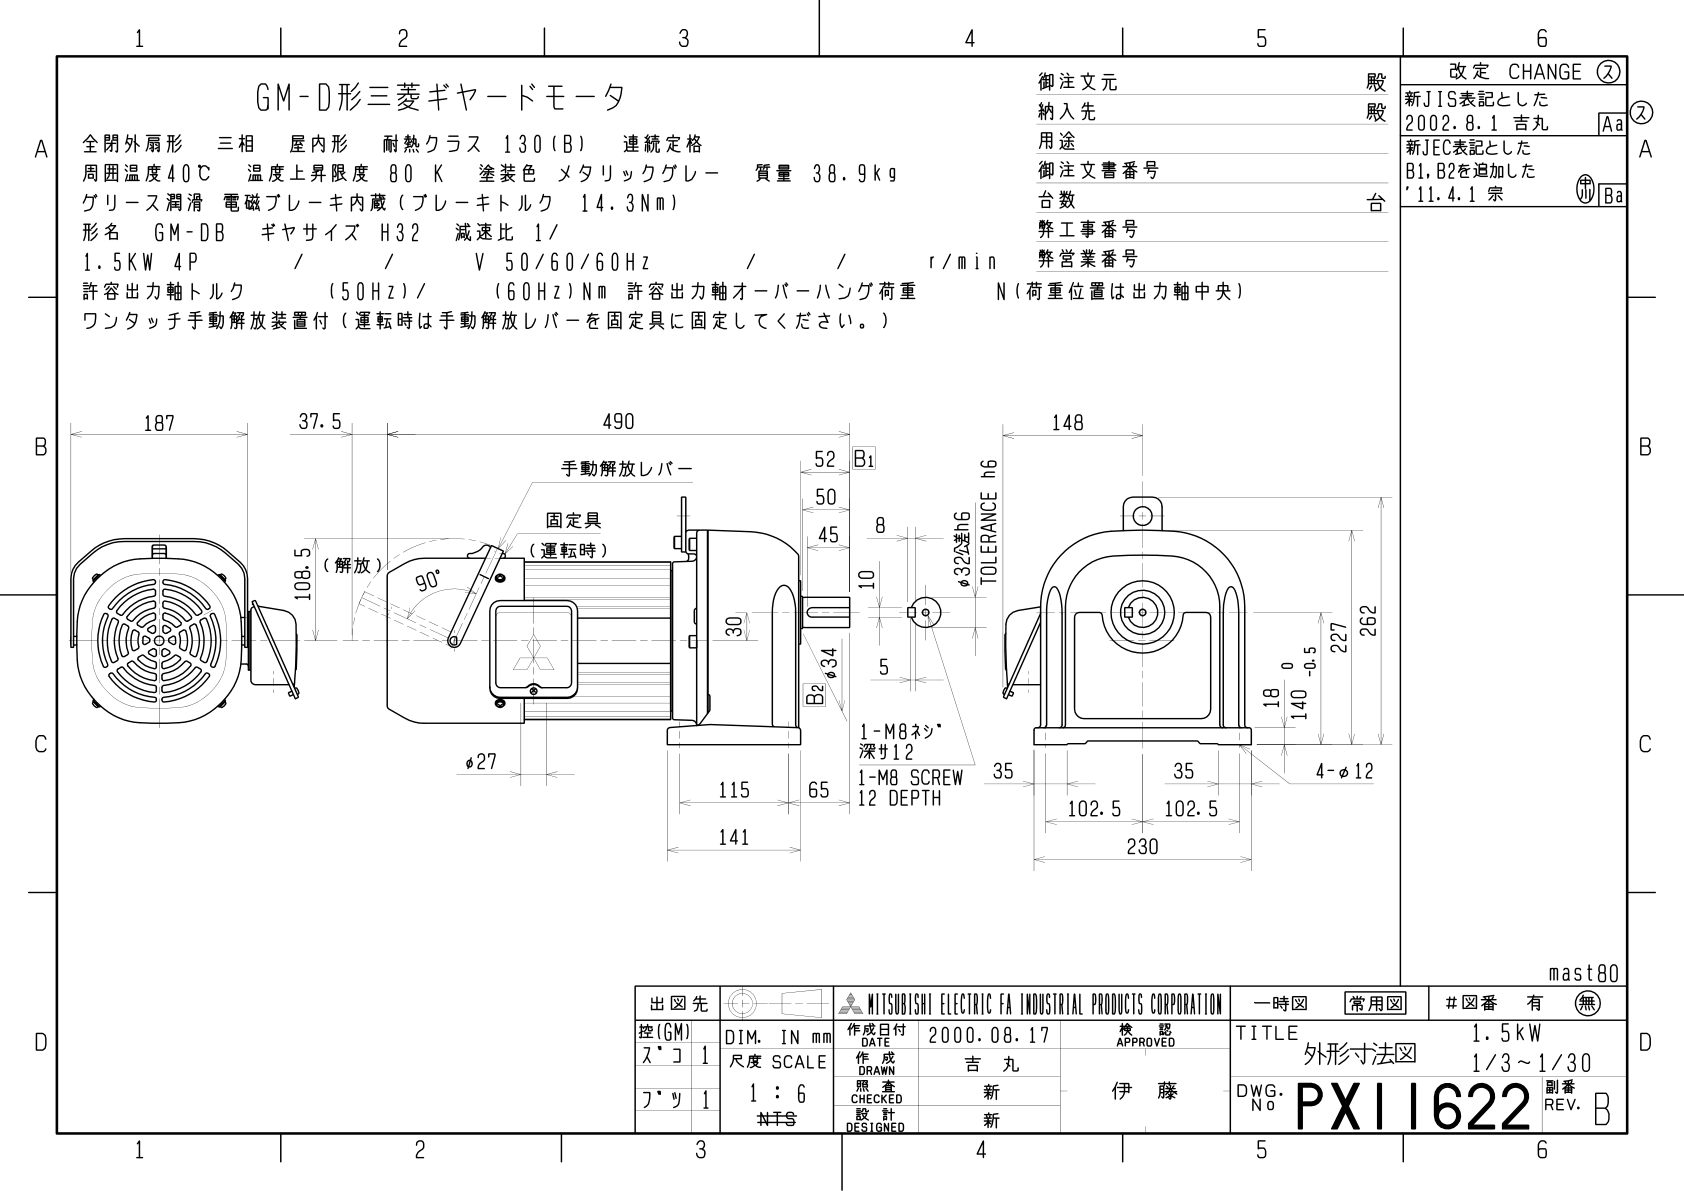GM_D_手動解放ブレーキ＿三相_脚: (61, 363, 1373, 914)
